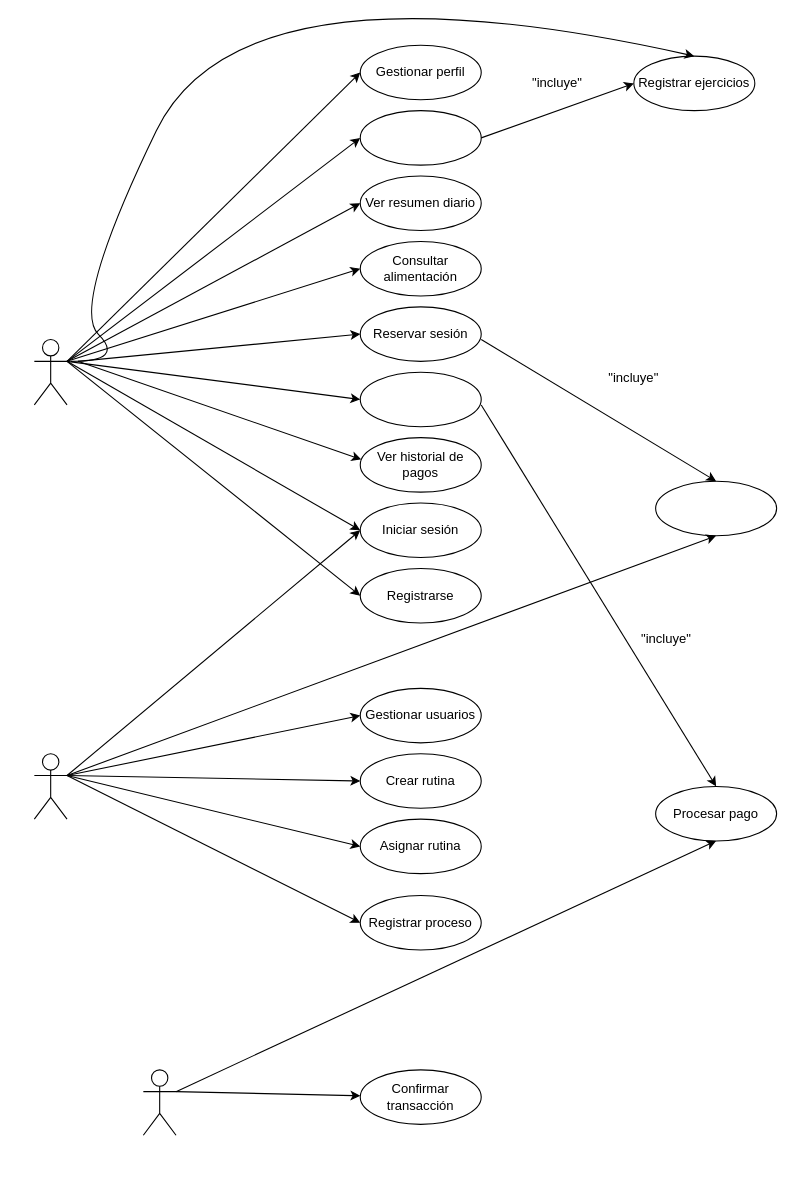
The diagram is 796 pixels wide and 1177 high, and some of its shapes have lost their labels. Here are the shapes that lost their labels. From the top down, the centre of each, then its label:
(x=420, y=137): Ver rutina
(x=50, y=371): Usuario
(x=420, y=399): Realizar pago
(x=716, y=508): Programar sesiones
(x=50, y=786): Entrenador
(x=159, y=1102): Sistema de pago
